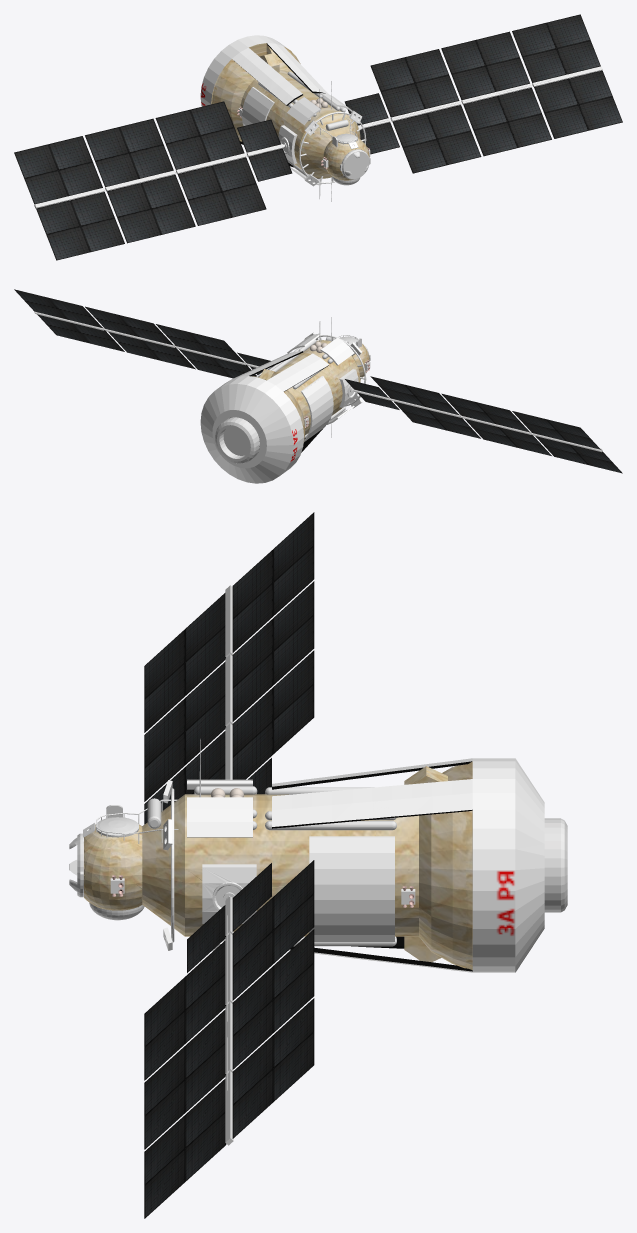
File: c_zarya.glb
3 views of the same model, one above another, from view 1: azimuth 30°, elevation 25°; view 2: azimuth 150°, elevation 25°; view 3: azimuth 270°, elevation 25° (orthographic). The views are drawn at different scales.
Bounding box in the file's own units: 105 × 21.43 × 39.95.
7 materials, 2 textured.
